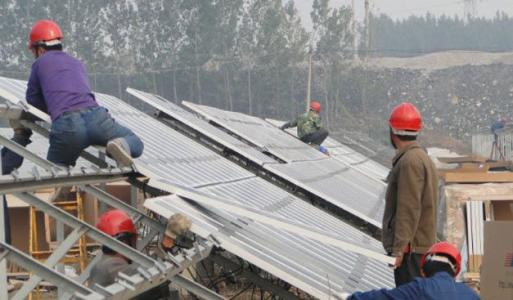boots: (105, 136, 133, 169)
hard-hat: (420, 241, 461, 277), (388, 102, 423, 136), (28, 18, 64, 48), (310, 100, 319, 112)
person: (24, 19, 143, 202), (380, 102, 440, 288), (346, 241, 481, 300), (278, 100, 329, 155)
